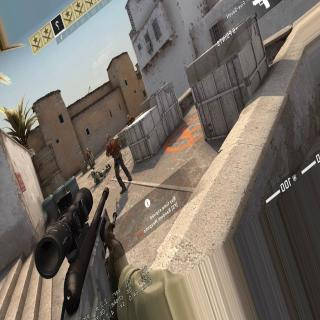T-Body: (104, 131, 133, 191), (87, 147, 93, 168), (126, 114, 135, 125)
T-Head: (106, 132, 112, 142), (127, 115, 130, 119), (86, 148, 88, 152)
